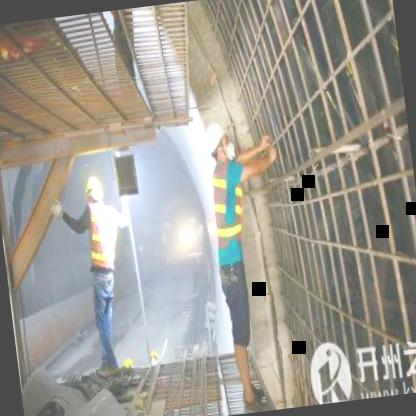helmet: (202, 115, 236, 168), (80, 170, 107, 214)
